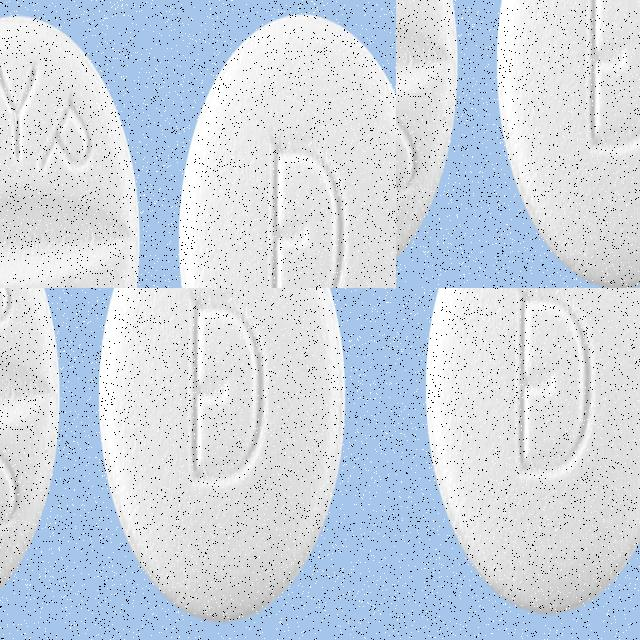Bearcin - 500mg: (423, 288, 640, 617)
Cipoxcin: (0, 381, 165, 640)
Claric: (153, 0, 396, 259), (0, 203, 196, 288)
Clarione -500mg: (396, 109, 555, 288)
